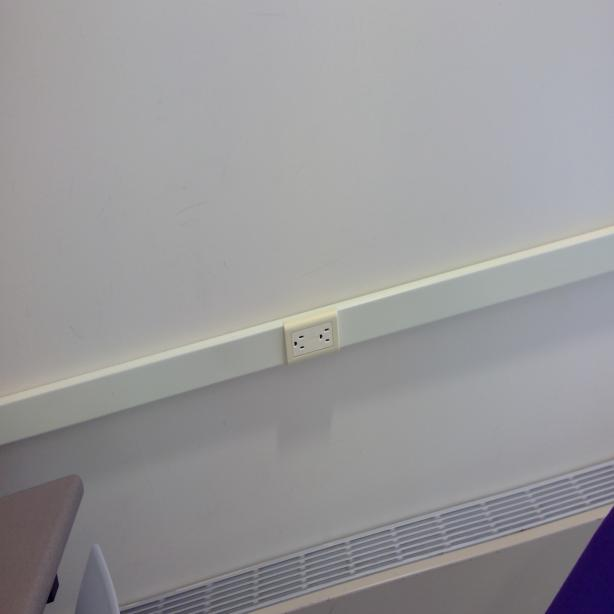typeb: (290, 330, 308, 353), (317, 324, 334, 348)
